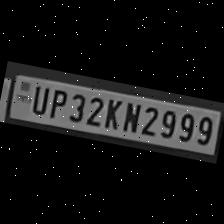2: (137, 100, 162, 136), (82, 90, 106, 127)
3: (64, 87, 87, 123)
9: (191, 111, 216, 146), (155, 104, 179, 139), (174, 107, 198, 141)
K: (100, 94, 124, 130)
N: (118, 97, 142, 134)
P: (44, 84, 70, 120)
U: (28, 81, 52, 115)
